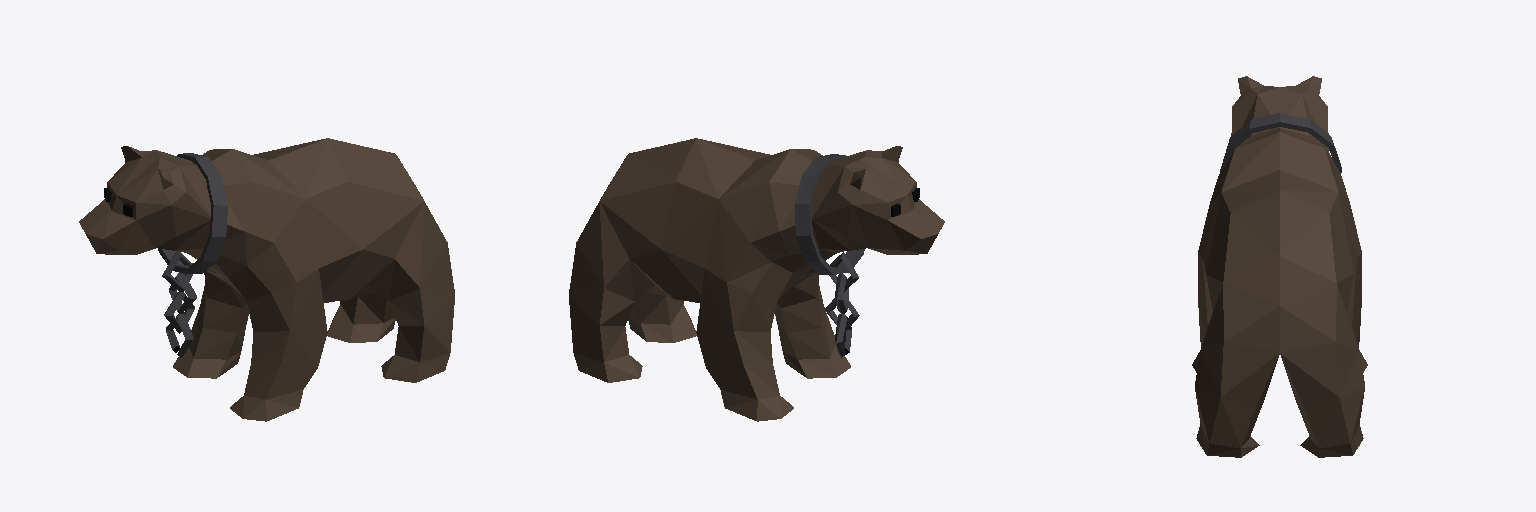
3 renders of one model, left to right at view 1: azimuth 30°, elevation 25°; view 2: azimuth 150°, elevation 25°; view 3: azimuth 270°, elevation 25°, orthographic.
Visible parts, largest first — view 1: obj1; view 2: obj1; view 3: obj1.
Boxes of the visible parts, box(x1,y1,x2,y2) form: obj1: box(79, 138, 454, 421); obj1: box(569, 138, 944, 421); obj1: box(1192, 76, 1367, 457).
Bounding box in the file's own units: 3.07 × 2.16 × 1.38.
1 materials, 1 textured.